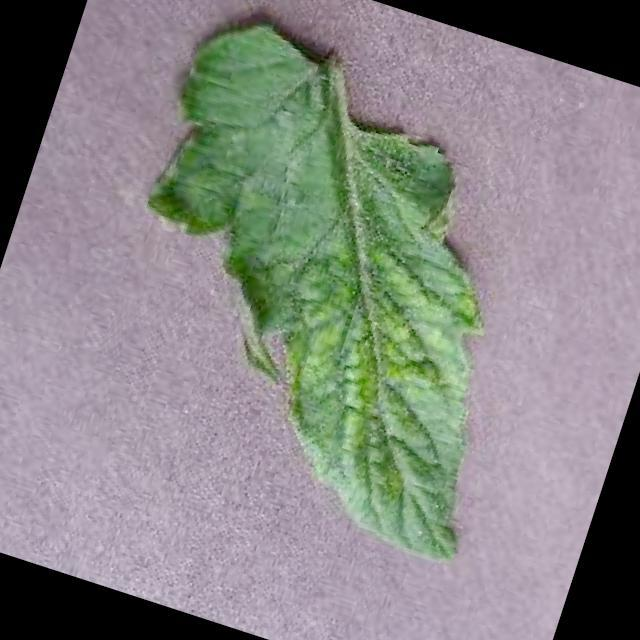Tomato mosaic virus leaf: (59, 2, 598, 572)
